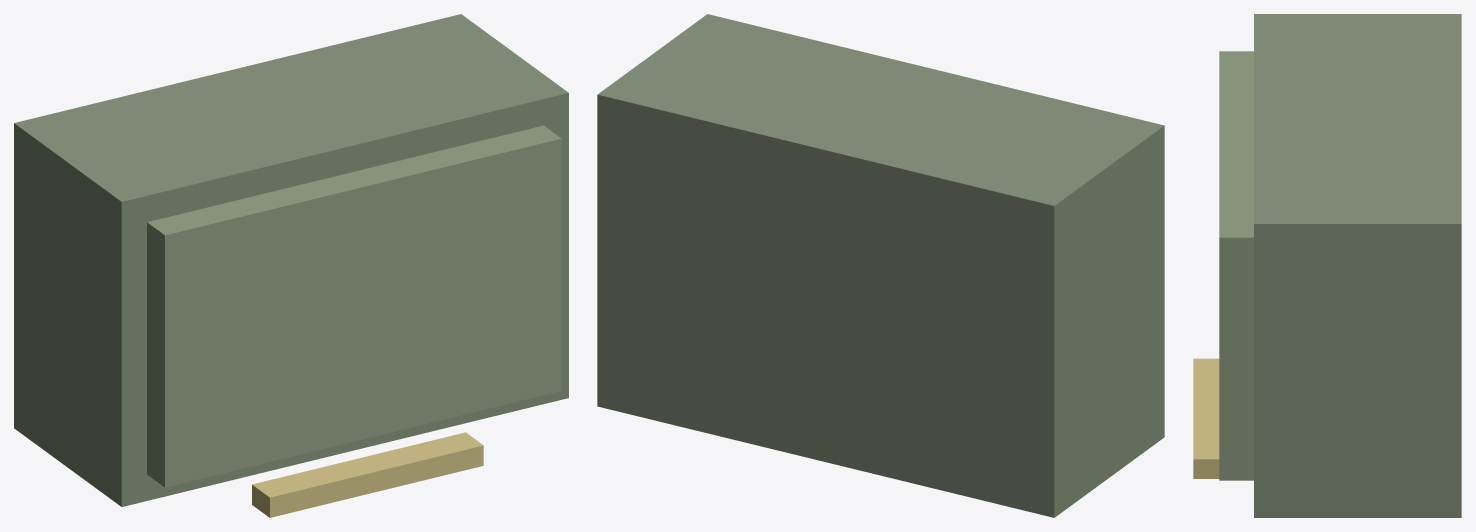
Rendered from ammo_box.glb.
The picture shows the model from 3 angles, left to right: view 1: azimuth 30°, elevation 25°; view 2: azimuth 150°, elevation 25°; view 3: azimuth 270°, elevation 25°; orthographic projection. The views are drawn at different scales.
Parts seen in each view (by area): view 1: part_1, part_0, part_2; view 2: part_0; view 3: part_0, part_1, part_2.
Boxes of the visible parts, box(x1,y1,x2,y2) form: part_1: box(147, 125, 561, 487); part_0: box(14, 14, 568, 506); part_2: box(252, 432, 483, 517); part_0: box(597, 14, 1164, 517); part_0: box(1254, 14, 1461, 517); part_1: box(1219, 51, 1253, 480); part_2: box(1193, 358, 1219, 478).
Bounding box in the file's own units: 1.15 × 0.805 × 0.62.
